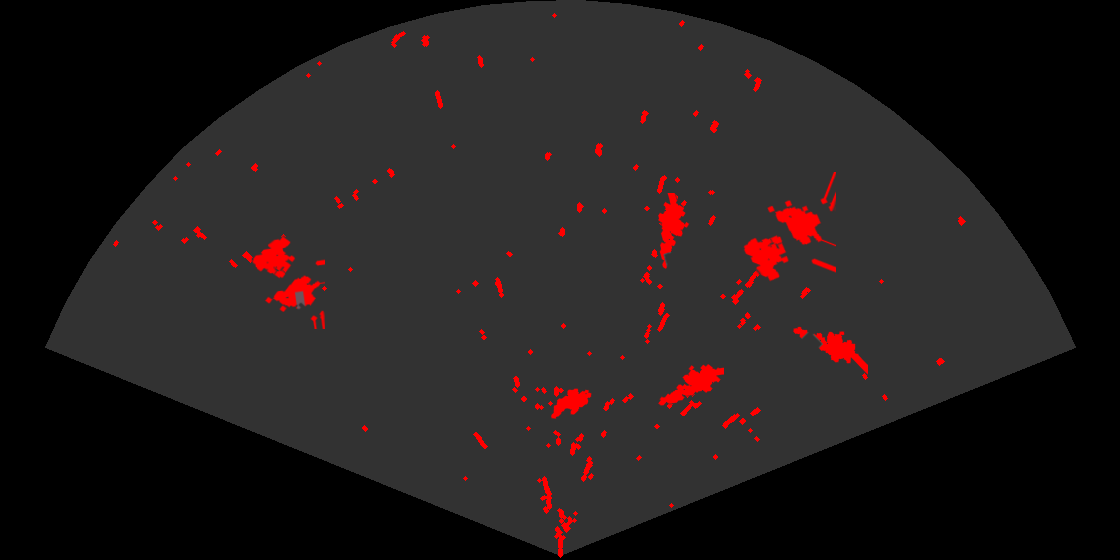AUV: (549, 387, 593, 420)
cage: (742, 172, 836, 283), (251, 235, 325, 329)
frogman: (792, 325, 868, 376), (657, 363, 724, 407), (657, 193, 691, 270)
